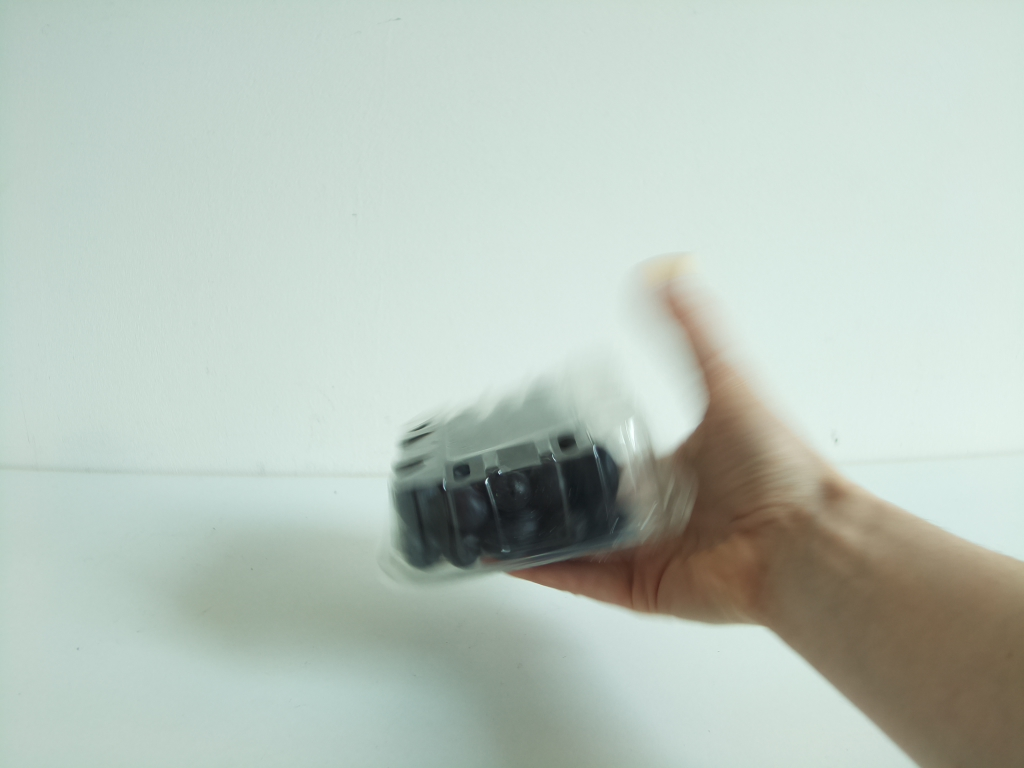soft-fruit: (375, 368, 691, 584)
